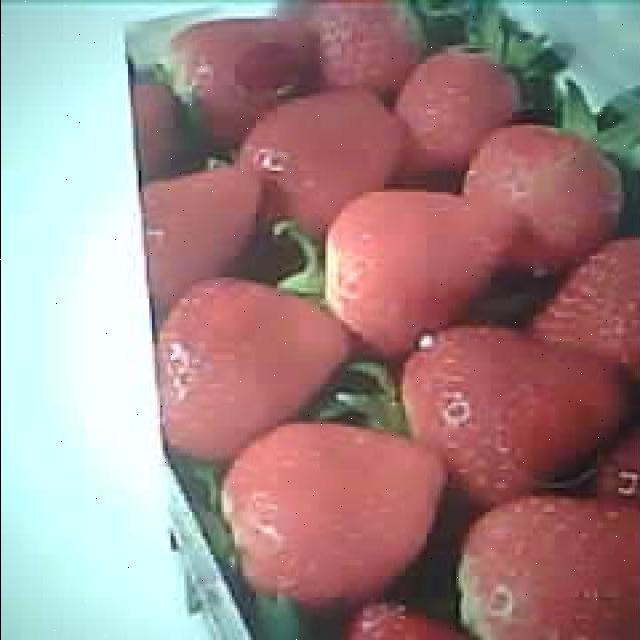strawberry: (397, 328, 632, 502), (222, 423, 448, 602), (154, 282, 352, 460), (320, 190, 507, 348)
